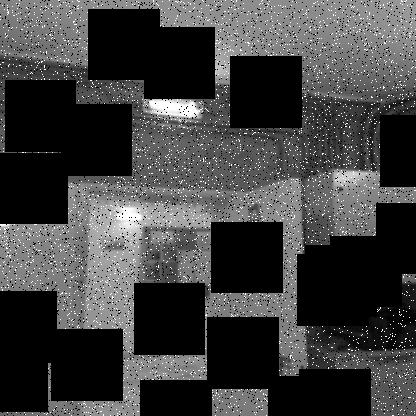Porte: (68, 178, 310, 416)
